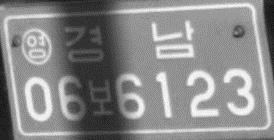0: (23, 76, 55, 122)
1: (153, 70, 175, 119)
2: (185, 68, 222, 119)
3: (222, 67, 255, 116)
6: (115, 72, 145, 121), (57, 74, 87, 122)
경남_D: (63, 18, 196, 63)
보: (87, 76, 115, 118)
영: (20, 27, 54, 66)
